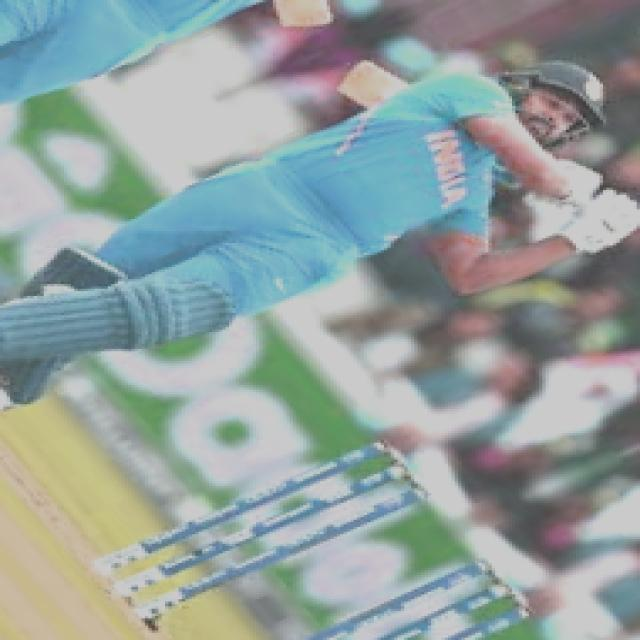toe: (320, 53, 399, 106)
